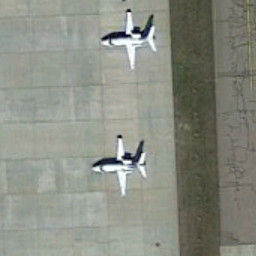Airplane: (84, 128, 160, 202), (92, 4, 165, 76)
